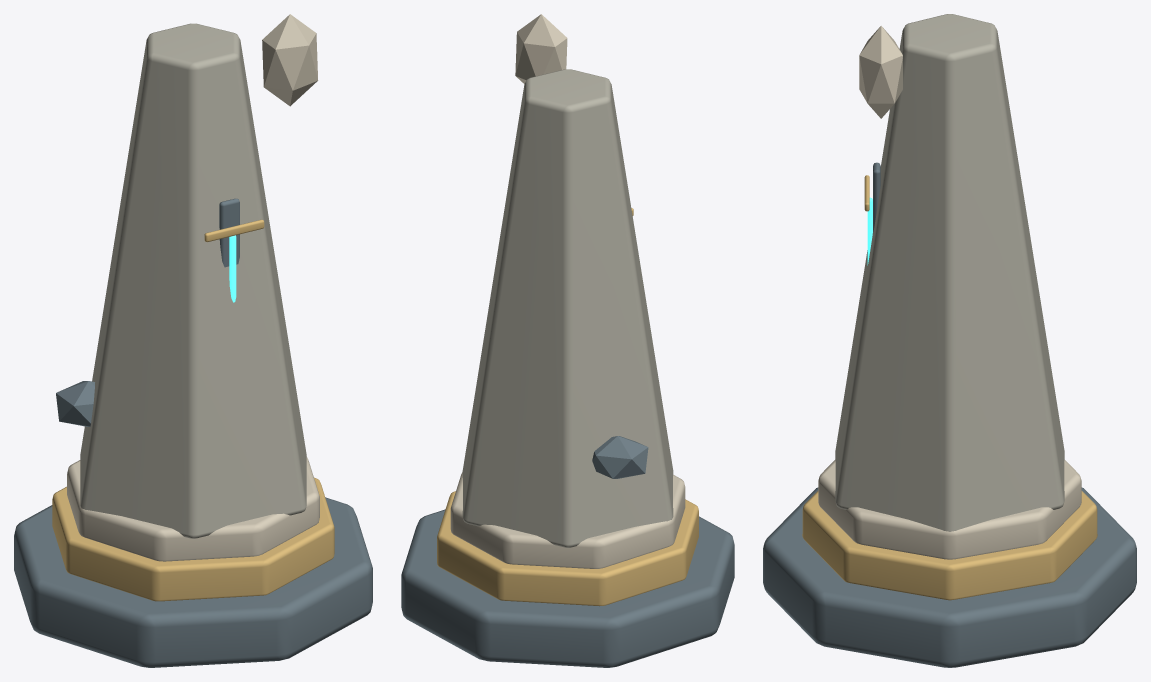
The model's file is SM_Waystone_Checkpoint_01.fbx.
3 views of the same model, side by side, from view 1: azimuth 30°, elevation 25°; view 2: azimuth 150°, elevation 25°; view 3: azimuth 270°, elevation 25° (orthographic). The views are drawn at different scales.
Parts seen in each view (by area): view 1: SM_Waystone_Checkpoint_01; view 2: SM_Waystone_Checkpoint_01; view 3: SM_Waystone_Checkpoint_01.
Boxes of the visible parts, x1,y1,x2,y2 form: SM_Waystone_Checkpoint_01: [14, 14, 372, 667]; SM_Waystone_Checkpoint_01: [401, 14, 734, 667]; SM_Waystone_Checkpoint_01: [763, 14, 1136, 667].
Size of the model in its own units: 1.74 by 3.07 by 1.74.
